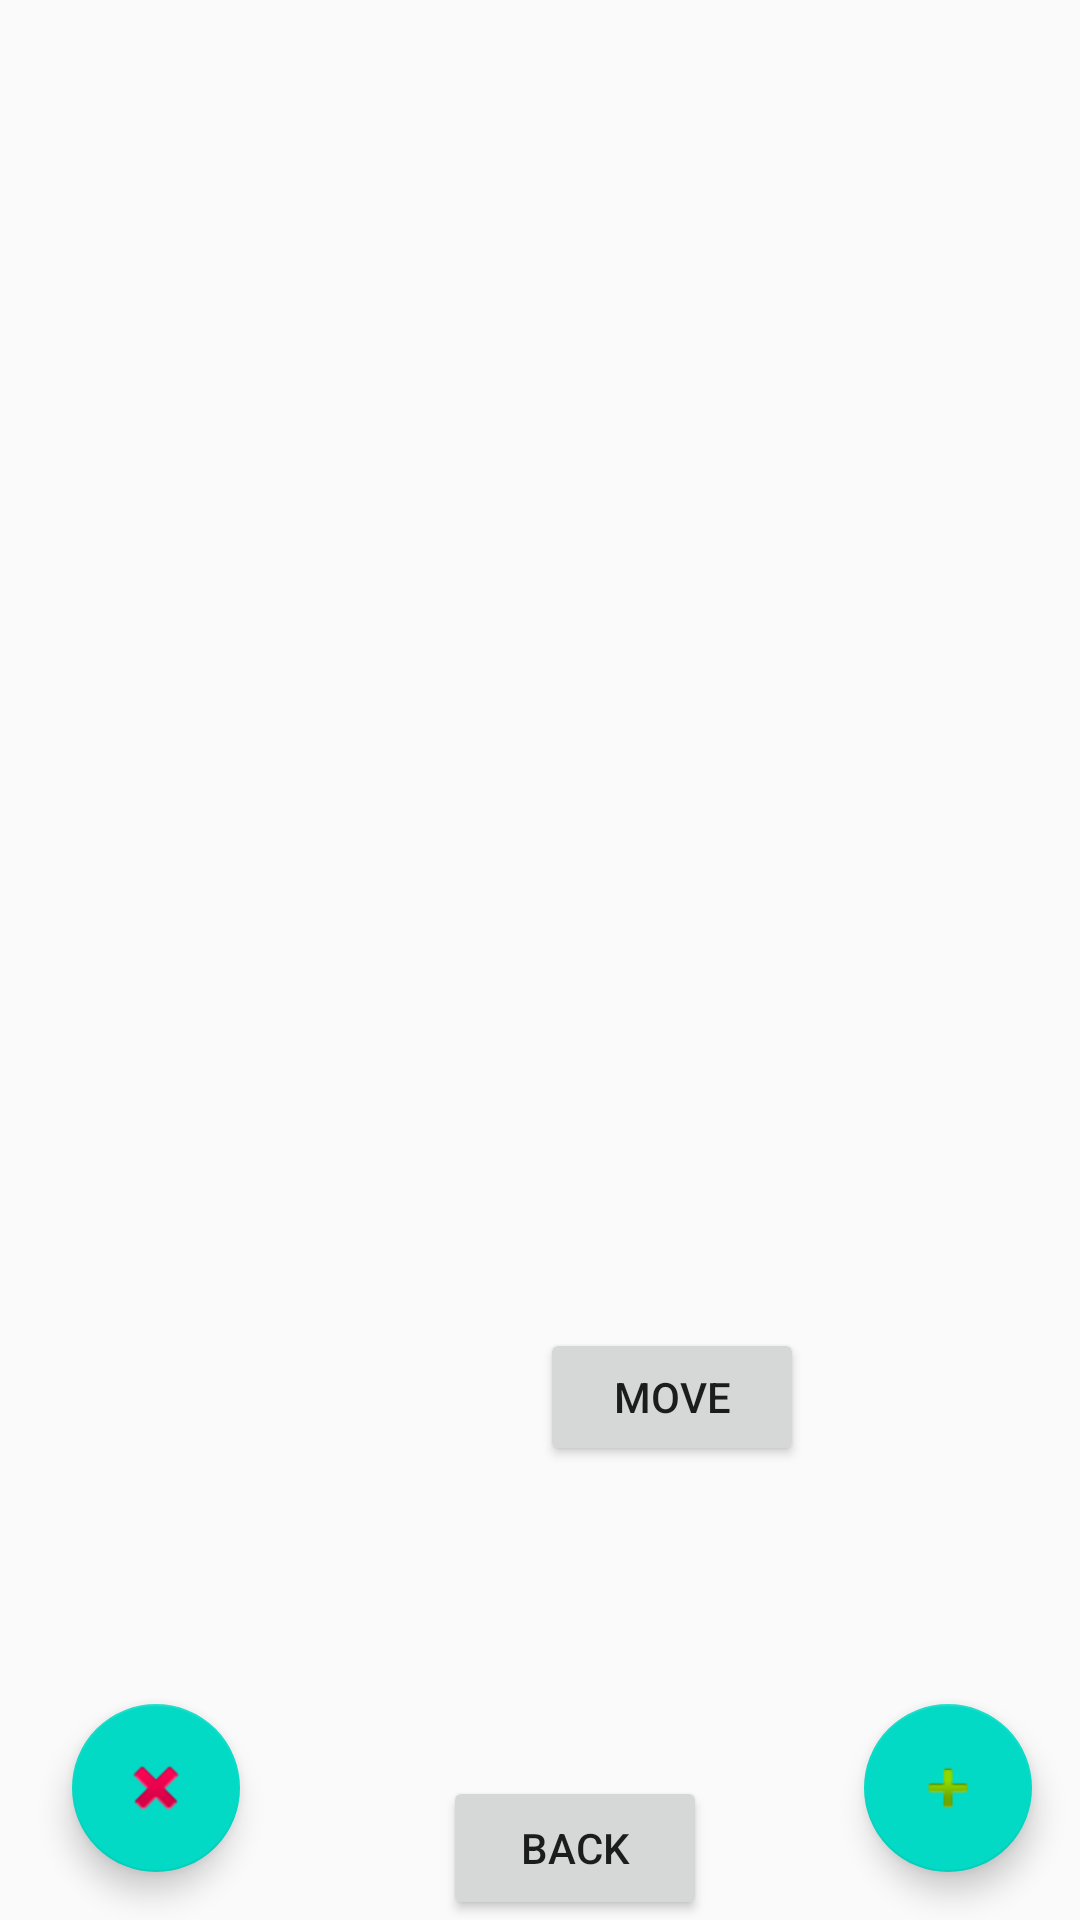

Where icons sit on this 1080px x 1920px app screen, as {"x1": x1, "y1": y1, "x2": x2, "y2": y2}:
add: {"x1": 864, "y1": 1704, "x2": 1032, "y2": 1872}
delete: {"x1": 72, "y1": 1704, "x2": 240, "y2": 1872}
